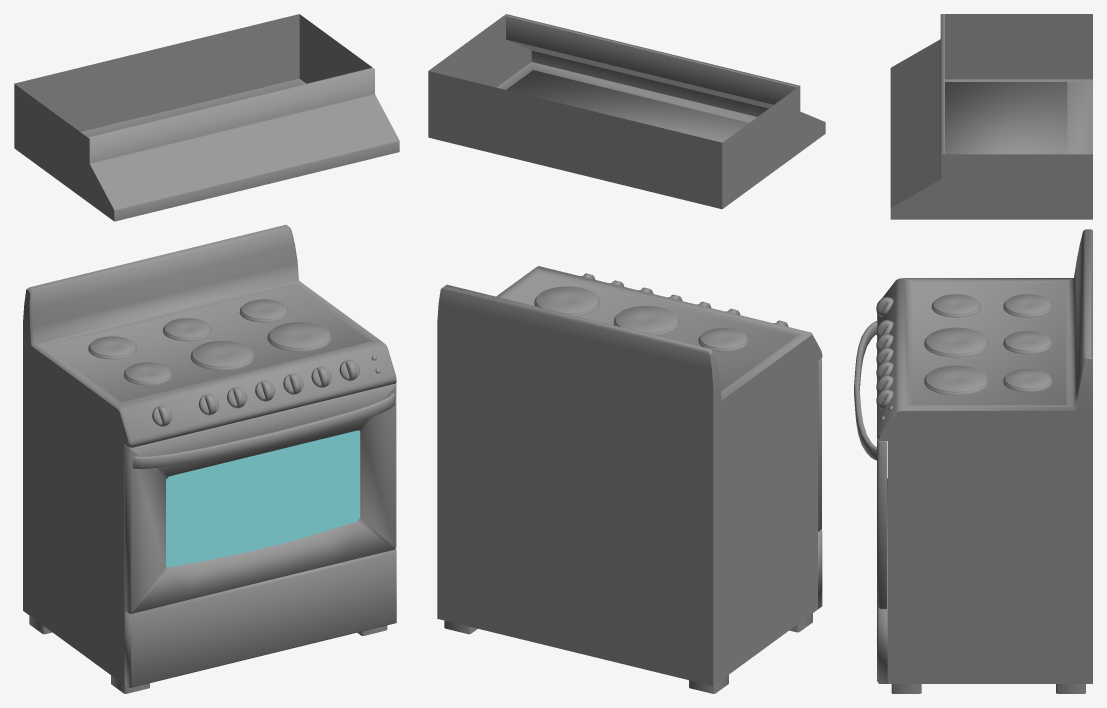
File: Stove.FBX
3 views of the same model, side by side, from view 1: azimuth 30°, elevation 25°; view 2: azimuth 150°, elevation 25°; view 3: azimuth 270°, elevation 25° (orthographic). The views are drawn at different scales.
Visible parts, largest first — view 1: Stove, Stove_range_hood, Oven_door; view 2: Stove, Stove_range_hood, Oven_door; view 3: Stove, Stove_range_hood, Oven_door.
Boxes of the visible parts, x1,y1,x2,y2 form: Stove: (23, 225, 396, 693); Stove_range_hood: (14, 14, 399, 221); Oven_door: (125, 383, 396, 614); Stove: (437, 266, 822, 693); Stove_range_hood: (428, 14, 825, 209); Oven_door: (818, 359, 821, 531); Stove: (876, 229, 1092, 693); Stove_range_hood: (890, 14, 1092, 219); Oven_door: (854, 321, 886, 609).
Size of the model in its own units: 100 by 181 by 71.86.
